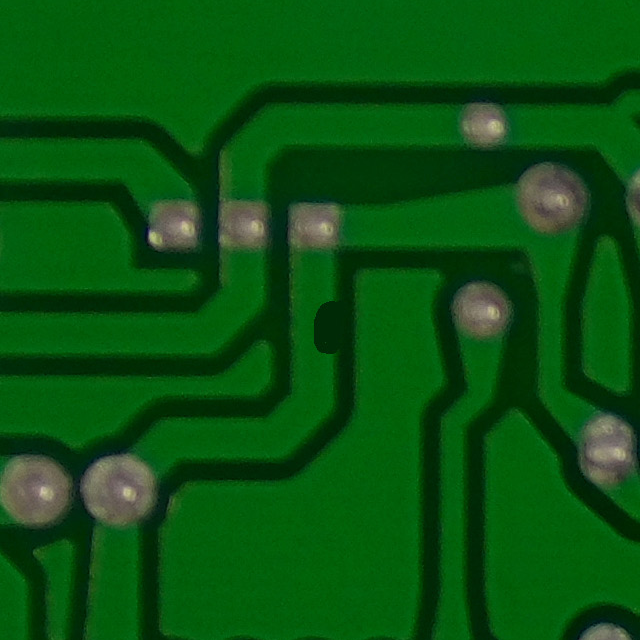mouse_bite: (288, 278, 353, 363)
